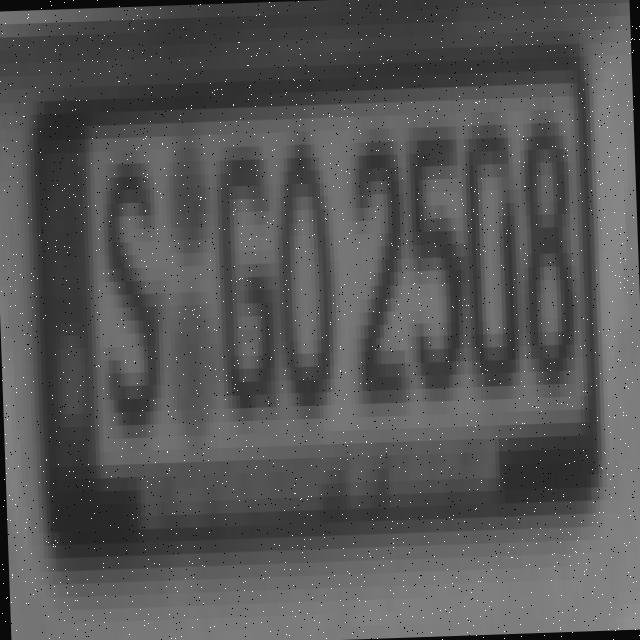Autre: (37, 59, 595, 489)
